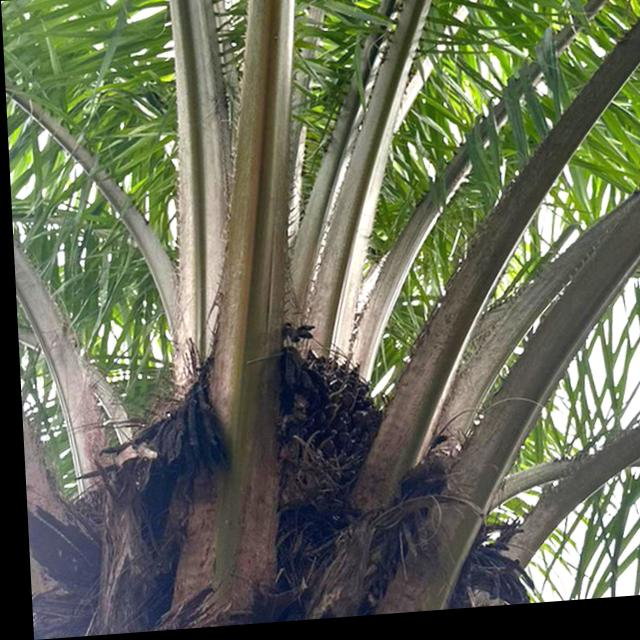almost: (251, 335, 386, 508)
